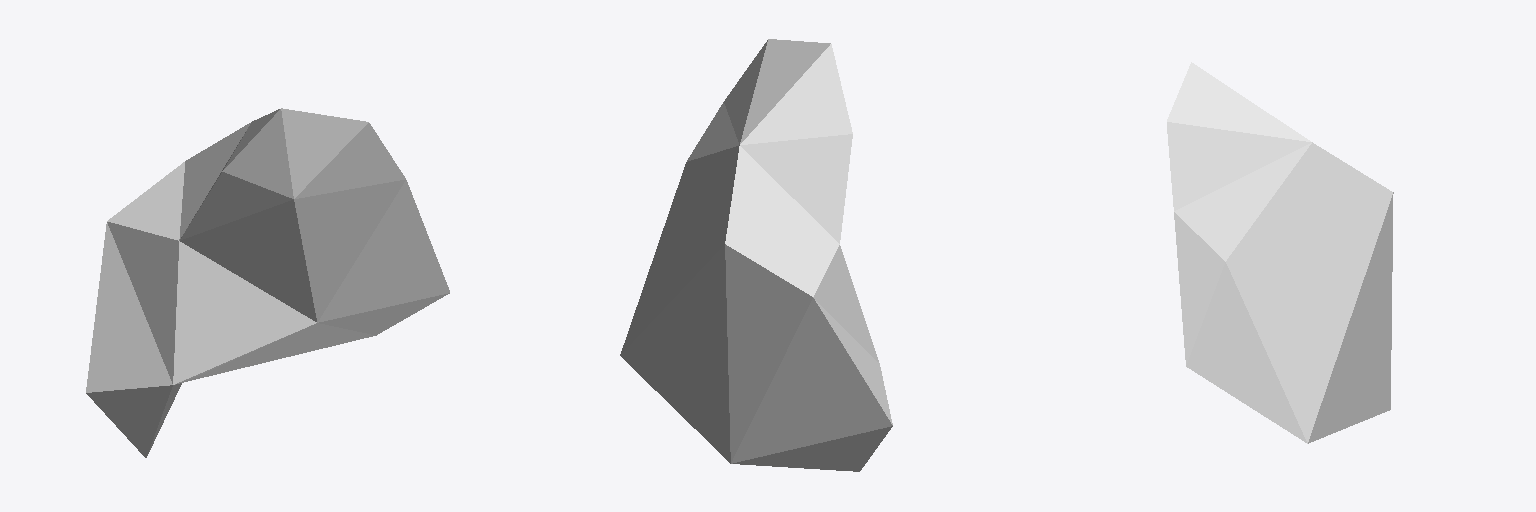
File: stg600_obj_meteoriteA_bp2.obj
3 views of the same model, side by side, from view 1: azimuth 30°, elevation 25°; view 2: azimuth 150°, elevation 25°; view 3: azimuth 270°, elevation 25° (orthographic).
Parts seen in each view (by area): view 1: polygon1; view 2: polygon0, polygon1; view 3: polygon0.
Boxes of the visible parts, <box> form: polygon1: <box>86,108,449,457</box>; polygon0: <box>620,39,892,471</box>; polygon1: <box>725,44,892,424</box>; polygon0: <box>1167,62,1393,443</box>.
Size of the model in its own units: 22.49 by 26.9 by 14.98.